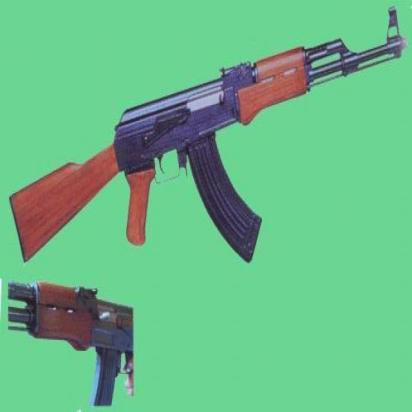Gun: (4, 4, 412, 277)
